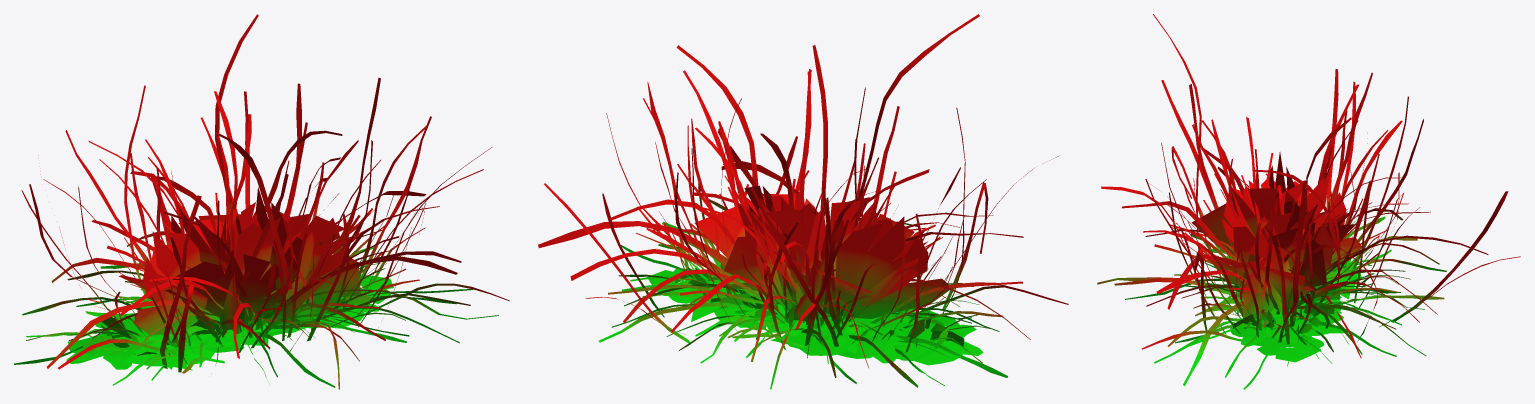
File: Wild Grass_LOD2_Var1_vdilbaiia.fbx
3 views of the same model, side by side, from view 1: azimuth 30°, elevation 25°; view 2: azimuth 150°, elevation 25°; view 3: azimuth 270°, elevation 25° (orthographic). The views are drawn at different scales.
Visible parts, largest first — view 1: _zoxe_Var1_LOD2; view 2: _zoxe_Var1_LOD2; view 3: _zoxe_Var1_LOD2.
Part boxes in pixels (box(x1,y1,x2,y2)): _zoxe_Var1_LOD2: box(14, 14, 509, 389); _zoxe_Var1_LOD2: box(538, 14, 1068, 389); _zoxe_Var1_LOD2: box(1097, 14, 1520, 389).
Bounding box in the file's own units: 224 × 130 × 203.
